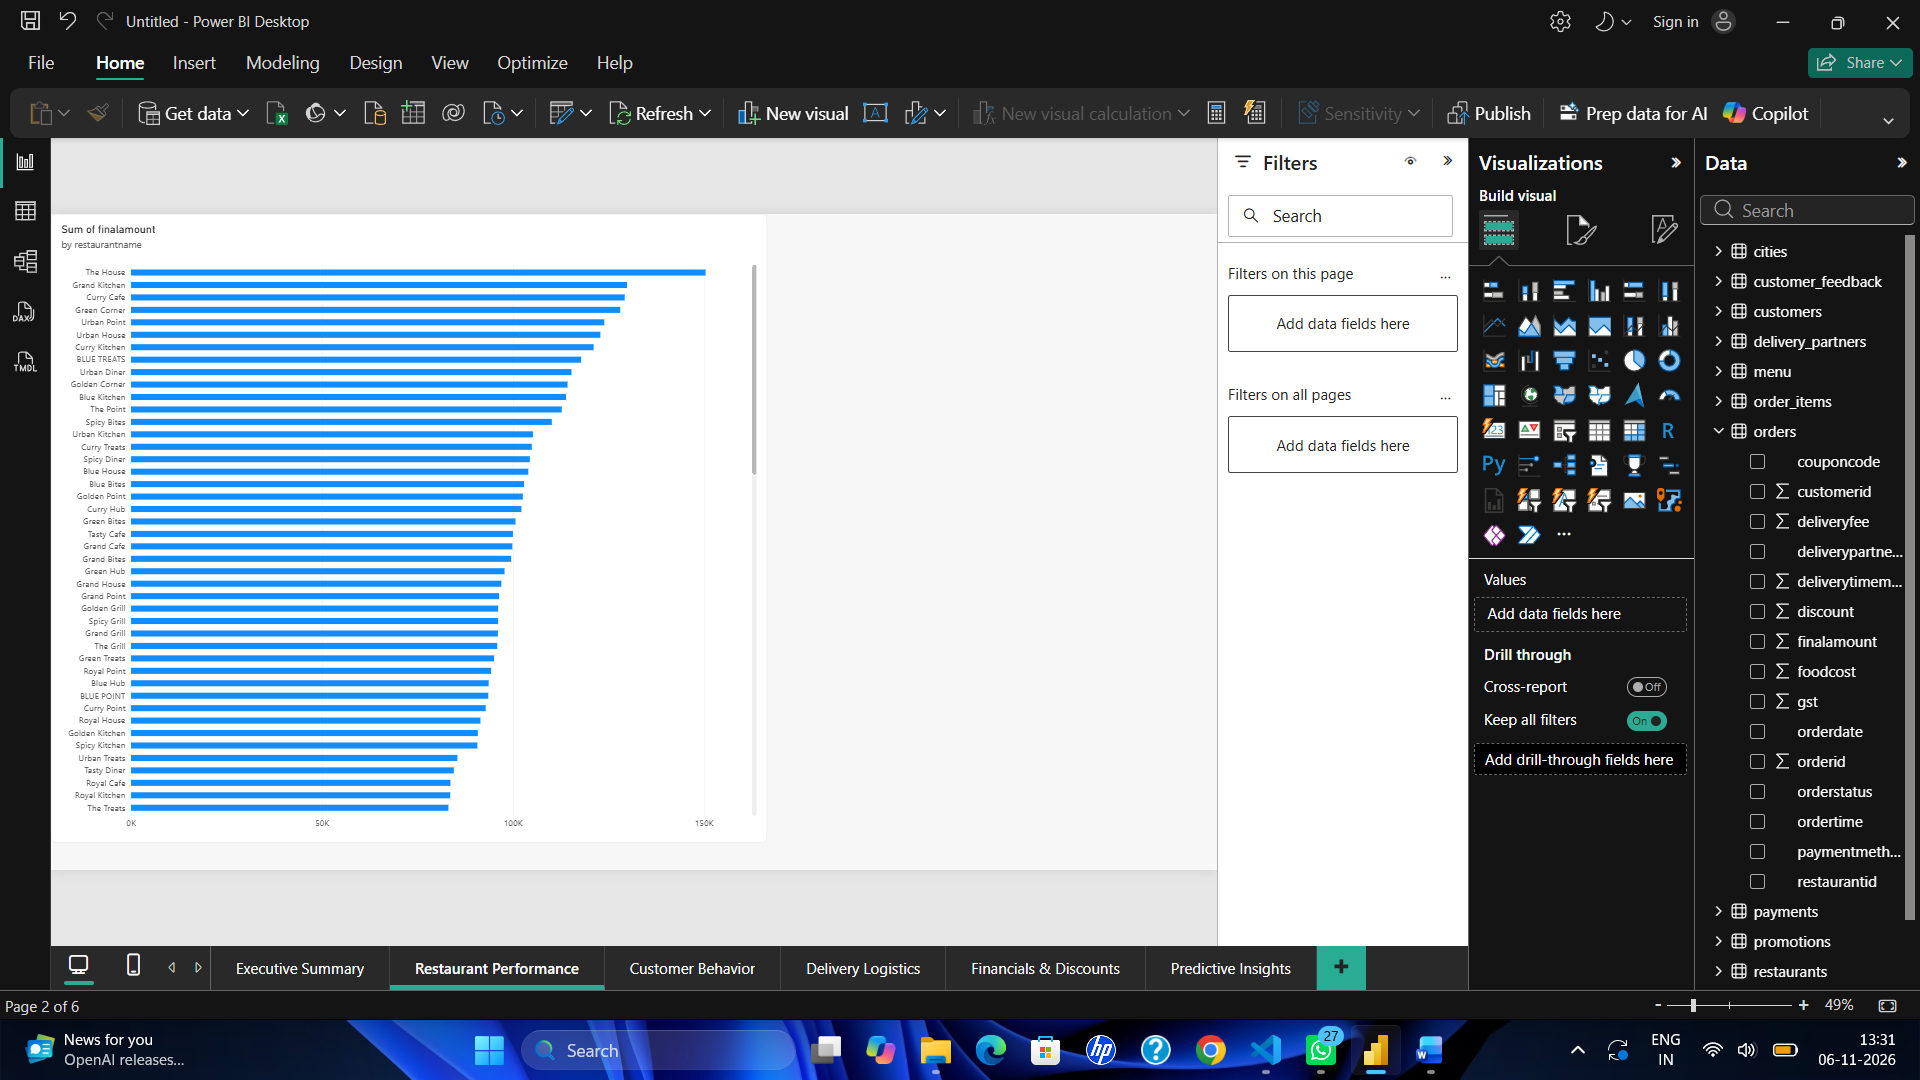

The page's visual inventory and layout, read from the dashboard file:
{"tool":"powerbi","page":{"name":"Restaurant Performance","canvas":[1920,1080],"ordinal":1},"visuals":[{"type":"barChart","fields":{"Category":["restaurants.restaurantname"],"Y":["Sum(orders.finalamount)"]},"box":[0,0,1179.4,1035.3],"z":0}]}

Visuals, with their boxes on the page's 1920x1080 design canvas (x1, y1, x2, y2). These are canvas units, not pixel positions in the 1920x1080 screenshot, which may show the page scaled, cropped or inside an application window:
barChart - restaurants.restaurantname x Sum(orders.finalamount): 0,0,1179,1035
